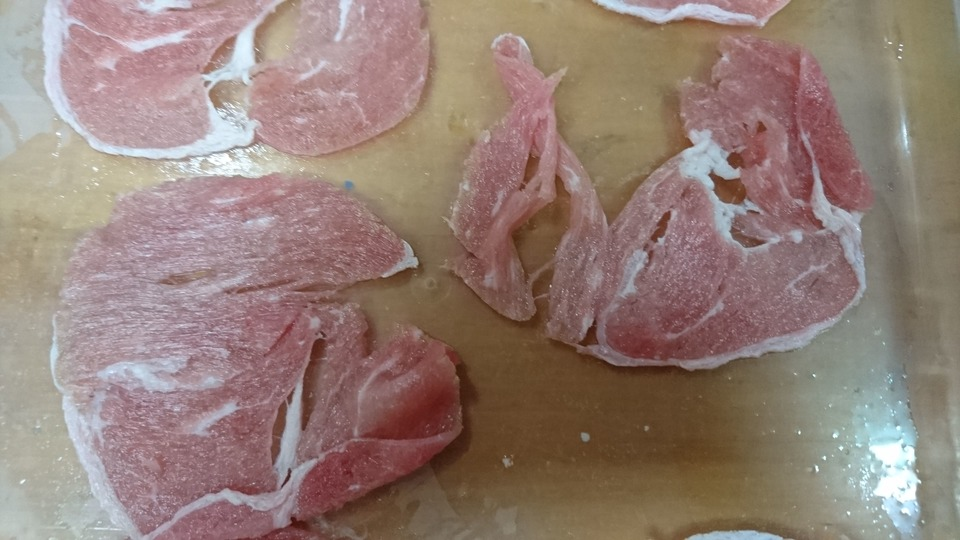restructured meat: (442, 41, 886, 379), (46, 187, 458, 521), (41, 6, 423, 163)
